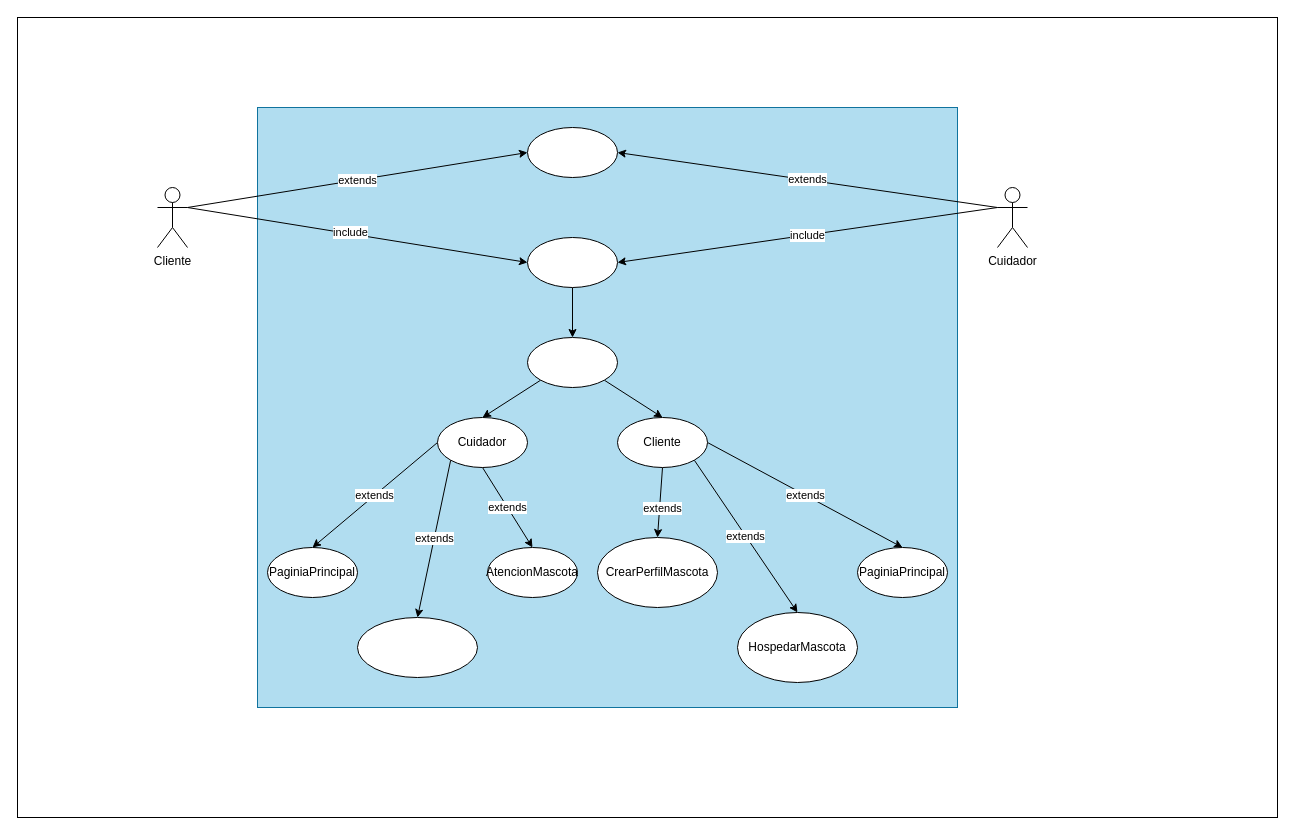
Image size: 1295x835. Some labels were removed from this diagram. Each missing label, with the box of its shape:
FiltradoRoles: (526, 336, 618, 388)
Login: (526, 236, 618, 288)
Registro: (526, 126, 618, 178)
SeleccionMascota: (356, 616, 478, 678)
